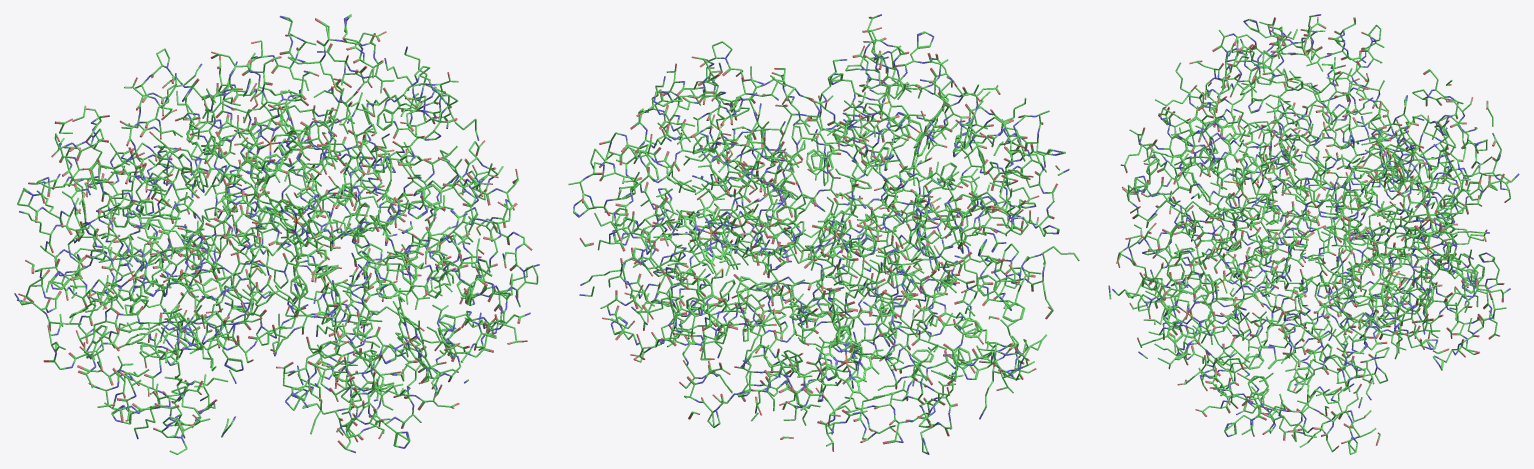
File: 4hhb__lines__default.glb
3 views of the same model, side by side, from view 1: azimuth 30°, elevation 25°; view 2: azimuth 150°, elevation 25°; view 3: azimuth 270°, elevation 25° (orthographic). The views are drawn at different scales.
Parts seen in each view (by area): view 1: Renderer Node; view 2: Renderer Node; view 3: Renderer Node.
Boxes of the visible parts, x1,y1,x2,y2 form: Renderer Node: (14,14,539,454); Renderer Node: (568,14,1079,454); Renderer Node: (1108,14,1519,454).
Bounding box in the file's own units: 65.55 × 57.14 × 57.46.
